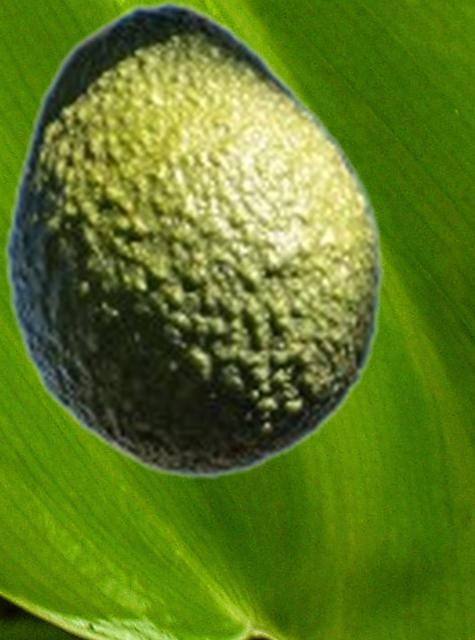avocado: (1, 0, 383, 479)
